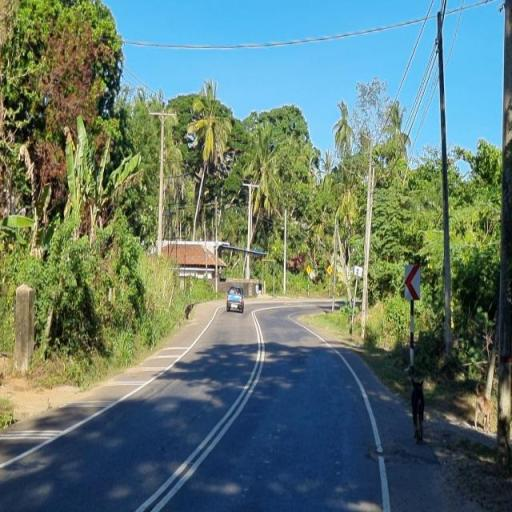double_white_line: (136, 310, 267, 510)
